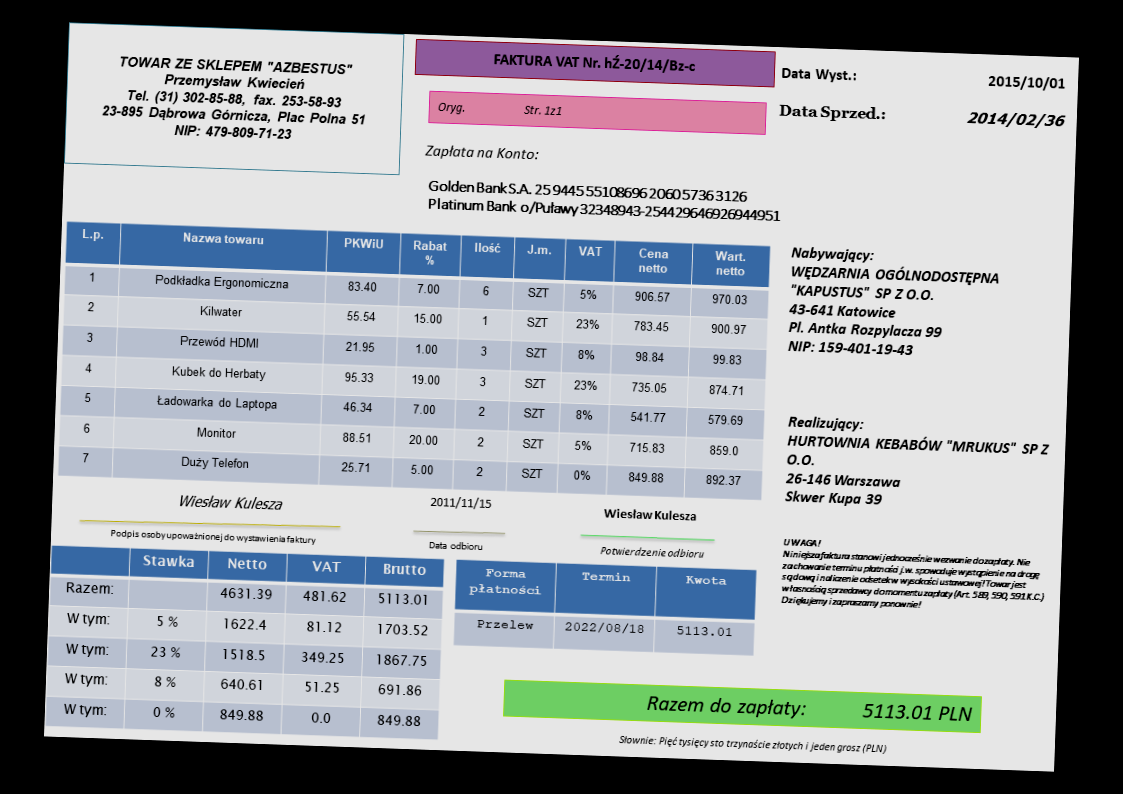Table: (57, 218, 770, 499), (45, 544, 445, 740), (451, 558, 758, 657)
TextBox: (783, 412, 1052, 514), (786, 245, 1005, 363), (98, 53, 371, 146), (778, 535, 1049, 616), (426, 177, 784, 225), (644, 691, 975, 725), (617, 732, 889, 757), (492, 48, 698, 77), (108, 525, 318, 547), (422, 141, 541, 165), (778, 102, 889, 126), (176, 491, 286, 514), (435, 99, 564, 118), (966, 109, 1067, 133), (601, 504, 699, 524), (598, 543, 706, 561), (986, 72, 1067, 92), (780, 65, 859, 85), (427, 493, 494, 513), (426, 538, 483, 553)
